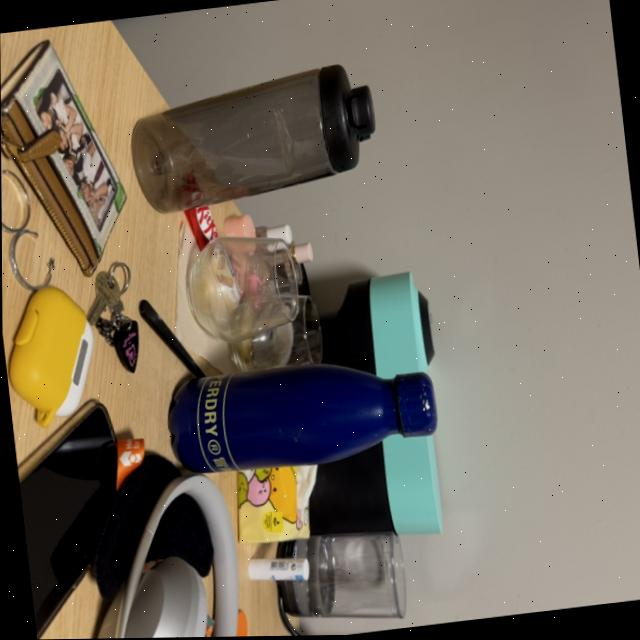chocolate: (172, 166, 252, 315)
